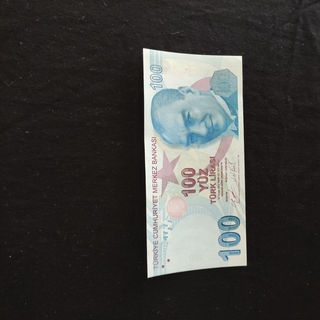100TLFront: (142, 47, 248, 279)
